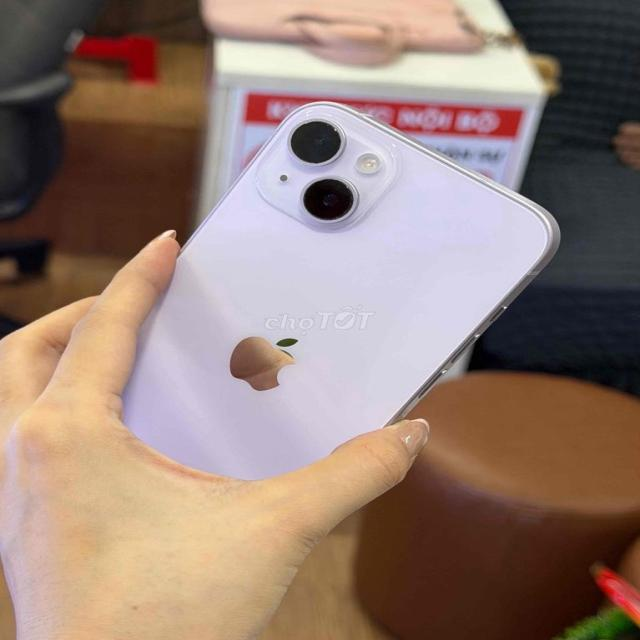gen_14: (75, 93, 571, 502)
